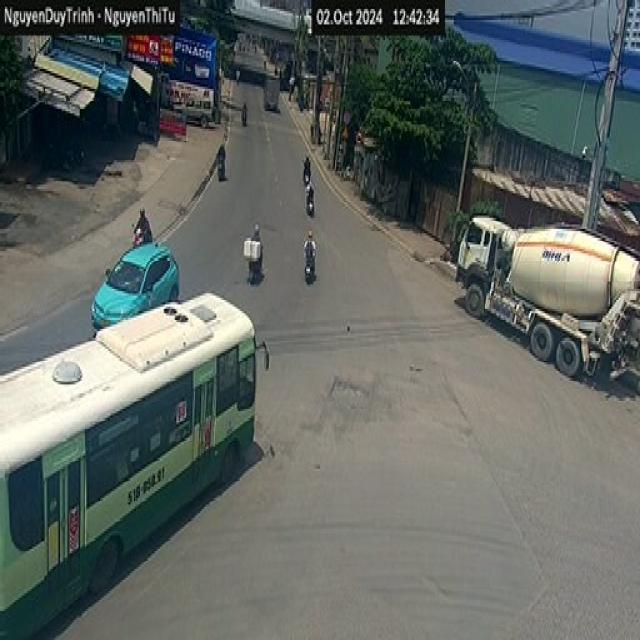bus: (2, 291, 271, 640)
car: (90, 240, 179, 331)
motorcycle: (246, 247, 268, 290), (124, 225, 160, 251), (302, 247, 320, 282), (304, 178, 314, 215), (235, 115, 252, 135), (215, 166, 228, 187)
person: (252, 213, 268, 270), (132, 207, 152, 244), (302, 229, 316, 273), (214, 132, 227, 174), (302, 153, 310, 184), (242, 100, 248, 124)
truck: (453, 209, 638, 382), (264, 58, 283, 118)
